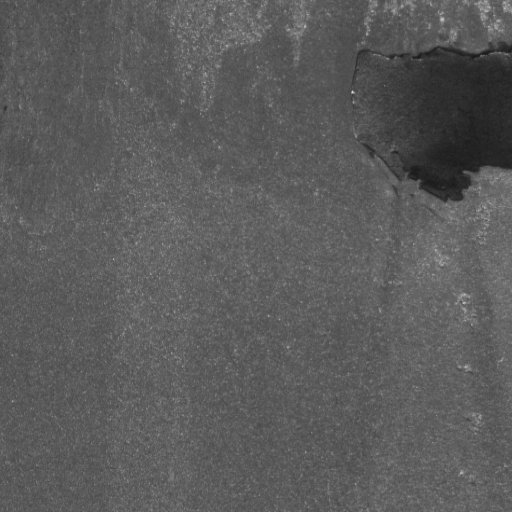aokeng: (346, 42, 512, 201)
